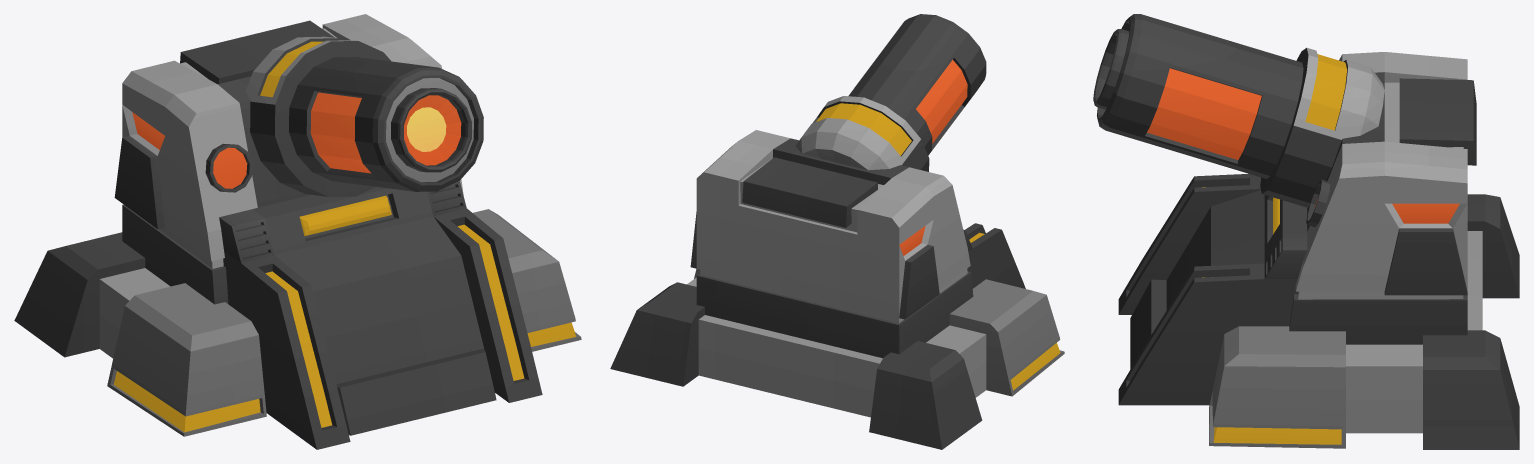
File: Laser_Turret.glb
3 renders of one model, left to right at view 1: azimuth 30°, elevation 25°; view 2: azimuth 150°, elevation 25°; view 3: azimuth 270°, elevation 25°, orthographic. The views are drawn at different scales.
Visible parts, largest first — view 1: Laser_Turret; view 2: Laser_Turret; view 3: Laser_Turret.
Boxes of the visible parts, x1,y1,x2,y2 form: Laser_Turret: (14, 14, 581, 449); Laser_Turret: (610, 14, 1064, 449); Laser_Turret: (1093, 14, 1519, 449).
Bounding box in the file's own units: 23.59 × 18.82 × 21.84.
Materials: 2 (2 with a texture image).
